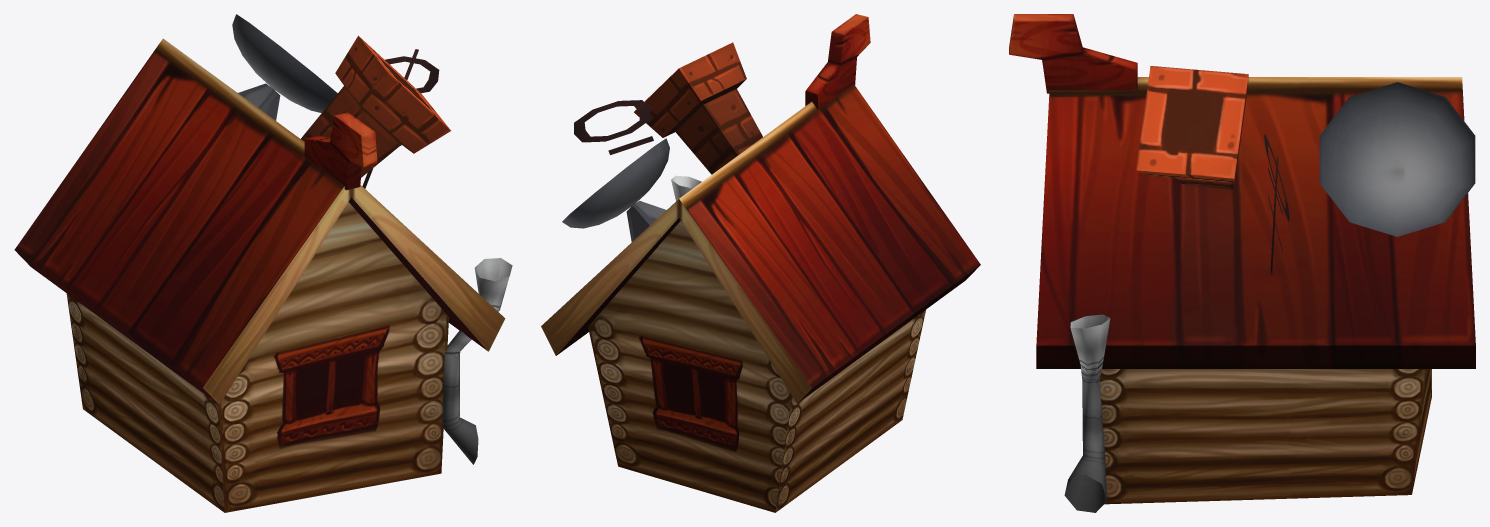
The model's file is Izba.fbx.
3 views of the same model, side by side, from view 1: azimuth 30°, elevation 25°; view 2: azimuth 150°, elevation 25°; view 3: azimuth 270°, elevation 25° (orthographic). The views are drawn at different scales.
Visible parts, largest first — view 1: Izba; view 2: Izba; view 3: Izba.
Part boxes in pixels (bbox=[...]): Izba: bbox=[14, 14, 512, 512]; Izba: bbox=[541, 14, 980, 512]; Izba: bbox=[1009, 14, 1475, 512].
Bounding box in the file's own units: 17.7 × 19.22 × 18.96.
